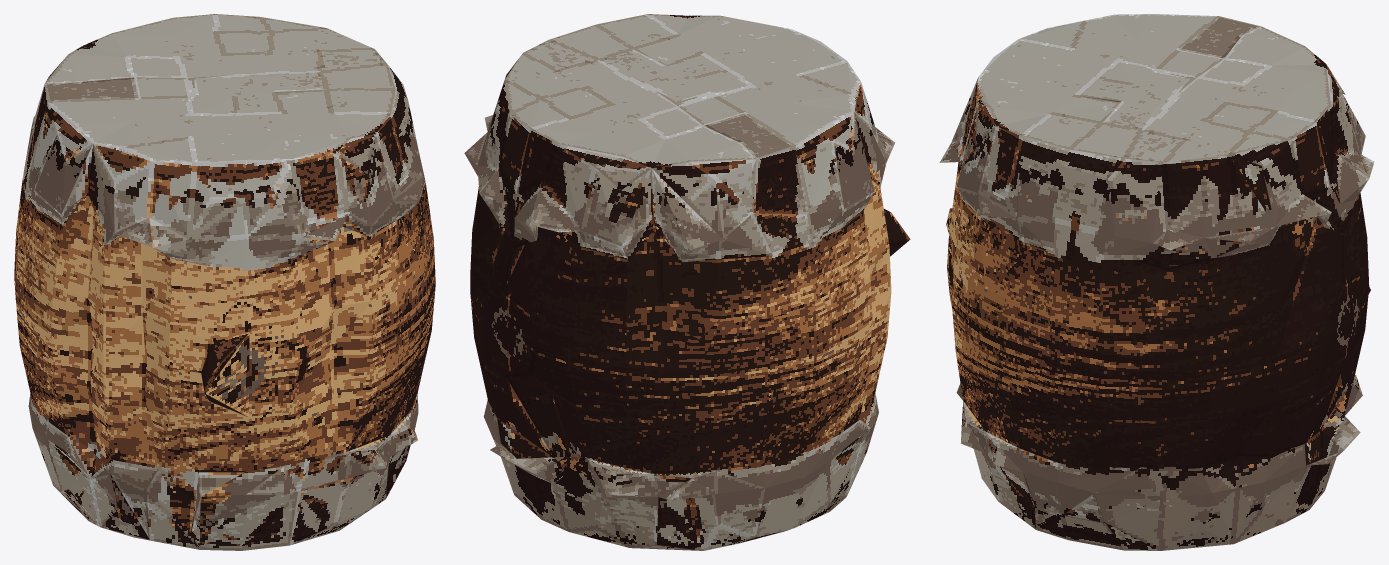
The model's file is taiko.glb.
3 views of the same model, side by side, from view 1: azimuth 30°, elevation 25°; view 2: azimuth 150°, elevation 25°; view 3: azimuth 270°, elevation 25° (orthographic).
Visible parts, largest first — view 1: model_drum; view 2: model_drum; view 3: model_drum.
Part boxes in pixels (box(x1,y1,x2,y2)): model_drum: box(14, 14, 435, 550); model_drum: box(464, 14, 910, 550); model_drum: box(939, 14, 1374, 550).
Size of the model in its own units: 24.45 by 24.91 by 24.74.
Materials: 1 (1 with a texture image).
